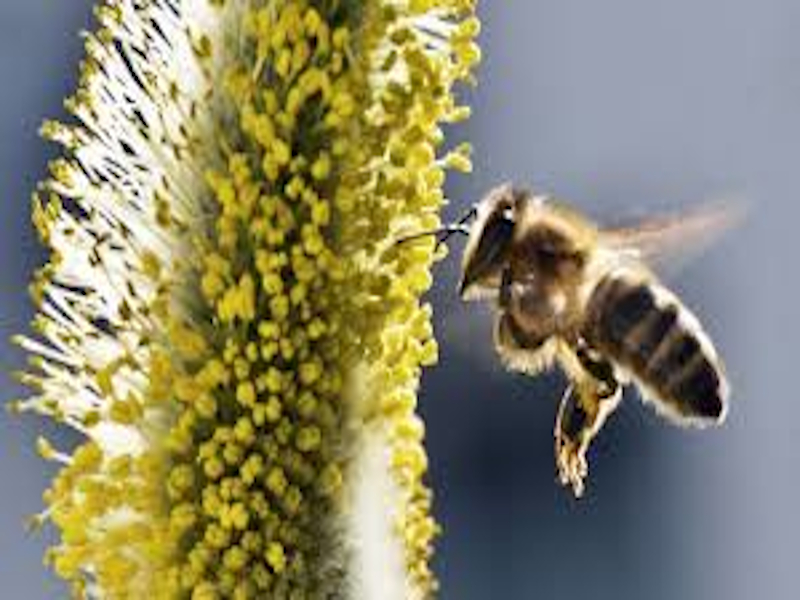abeja: (373, 150, 757, 505)
